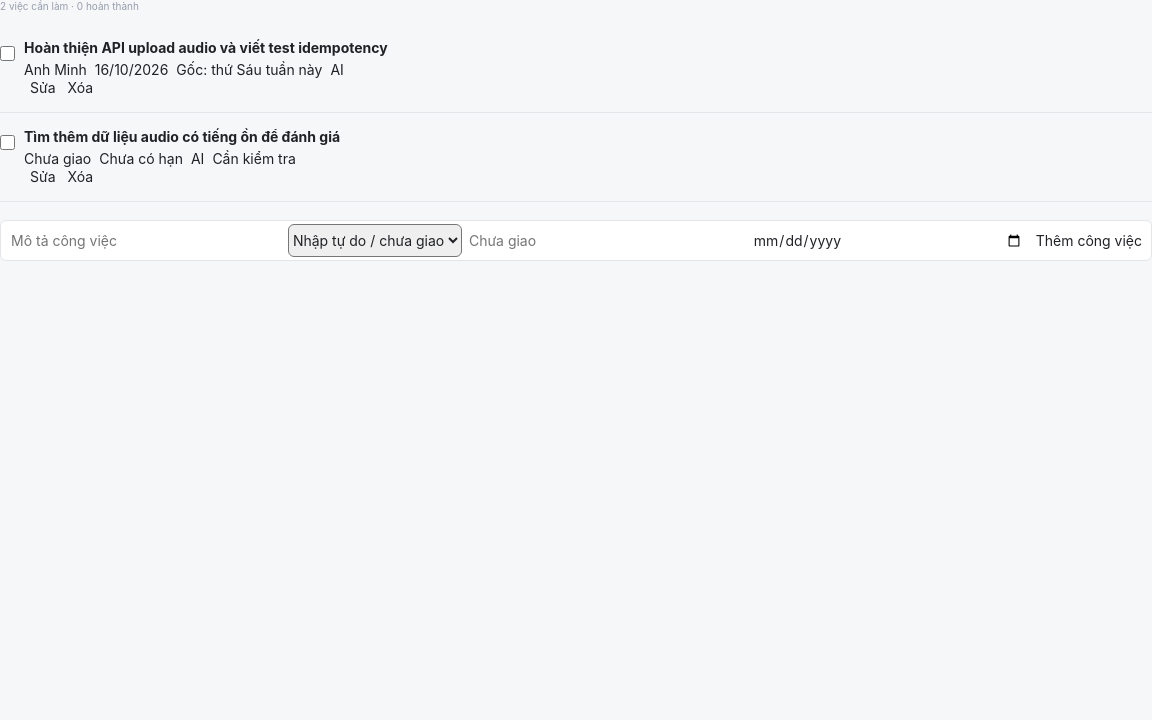
Scenario: FE-13 action item CRUD › validates description and keeps draft on 409
Expected: the text "Hoàn thiện API upload audio và viết test idempotency" is shown, [24, 39, 388, 56]
Click the button "Sửa" below "Anh Minh" at (43, 88), box [24, 78, 62, 97]
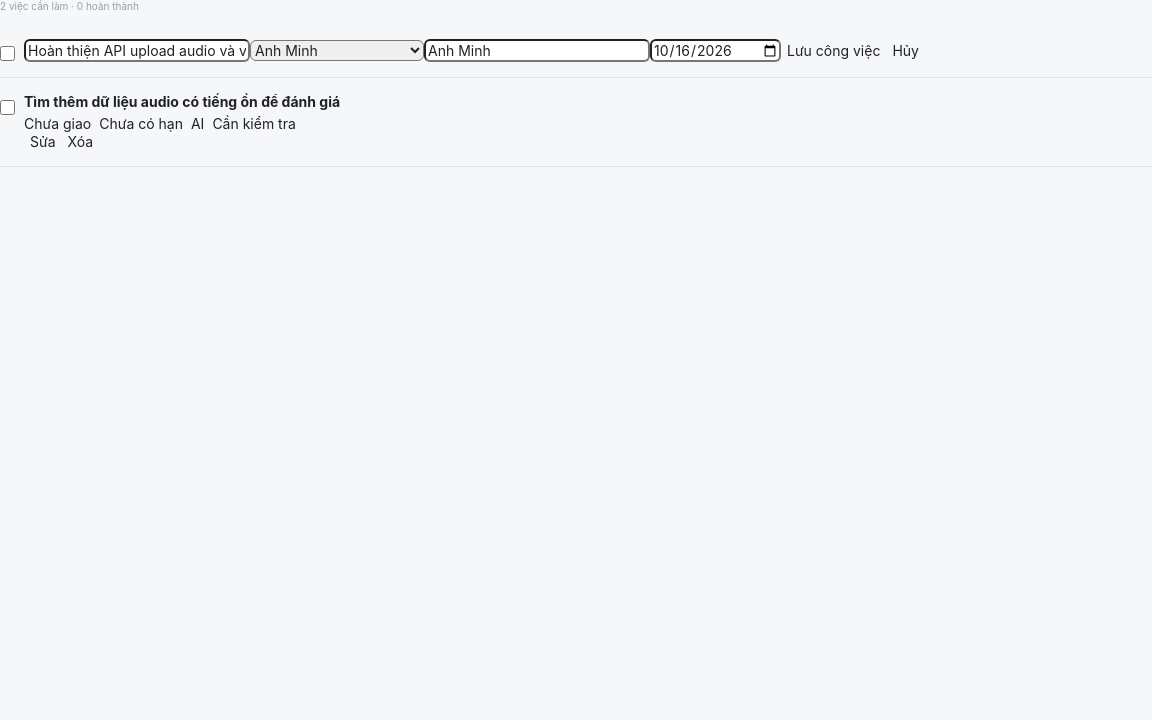
Clear the field named "Sửa nội dung" at (137, 50), box [24, 39, 250, 62]
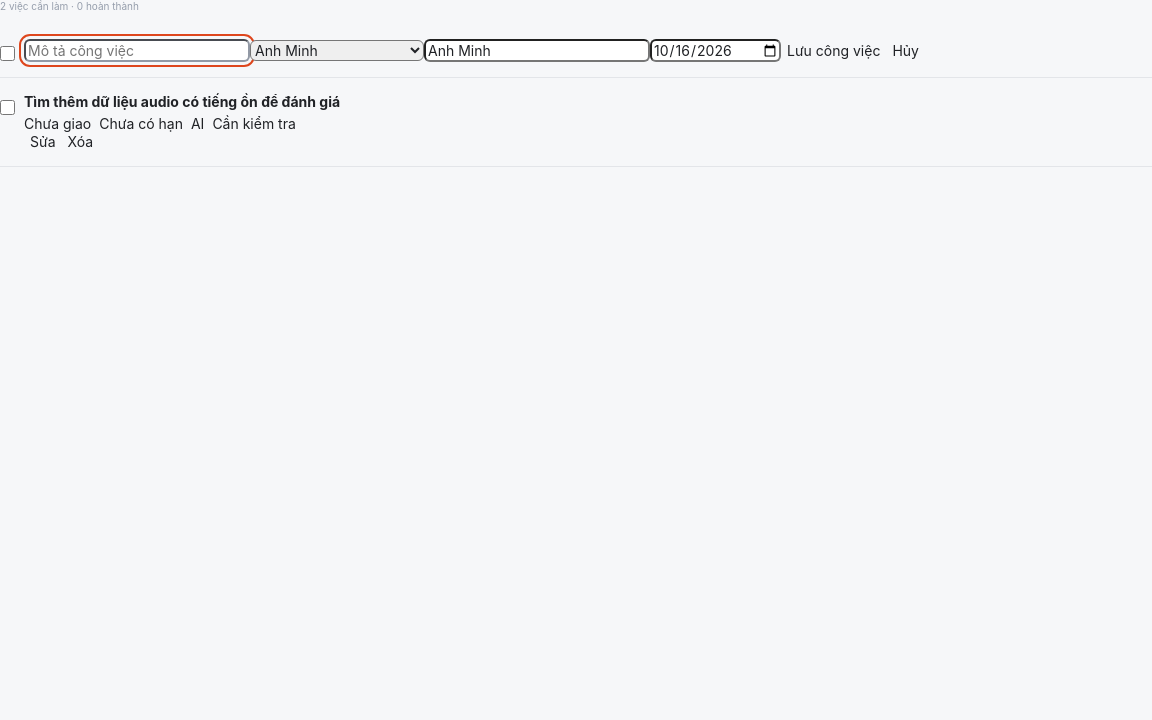
Click the button "Lưu công việc" at (834, 50), box [781, 41, 886, 60]
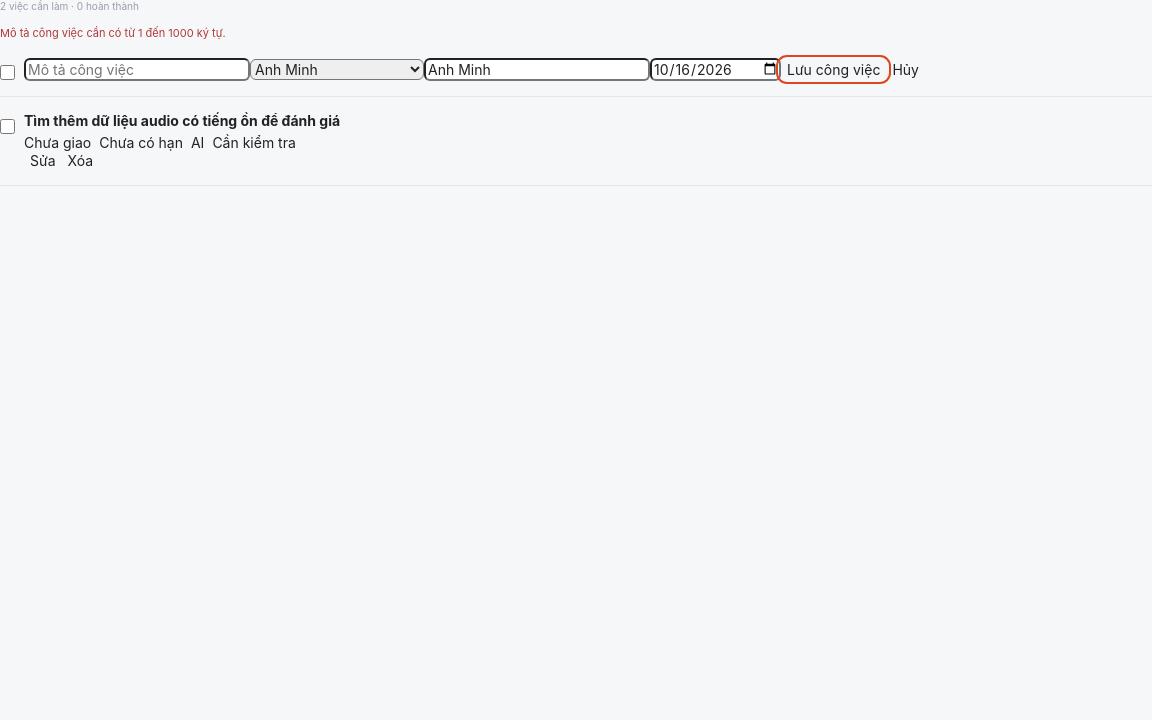
Expected: the message shows "1 đến 1000", [0, 26, 226, 40]
Type "Bản nháp cần giữ" into the field named "Sửa nội dung" at (137, 69), box [24, 58, 250, 81]
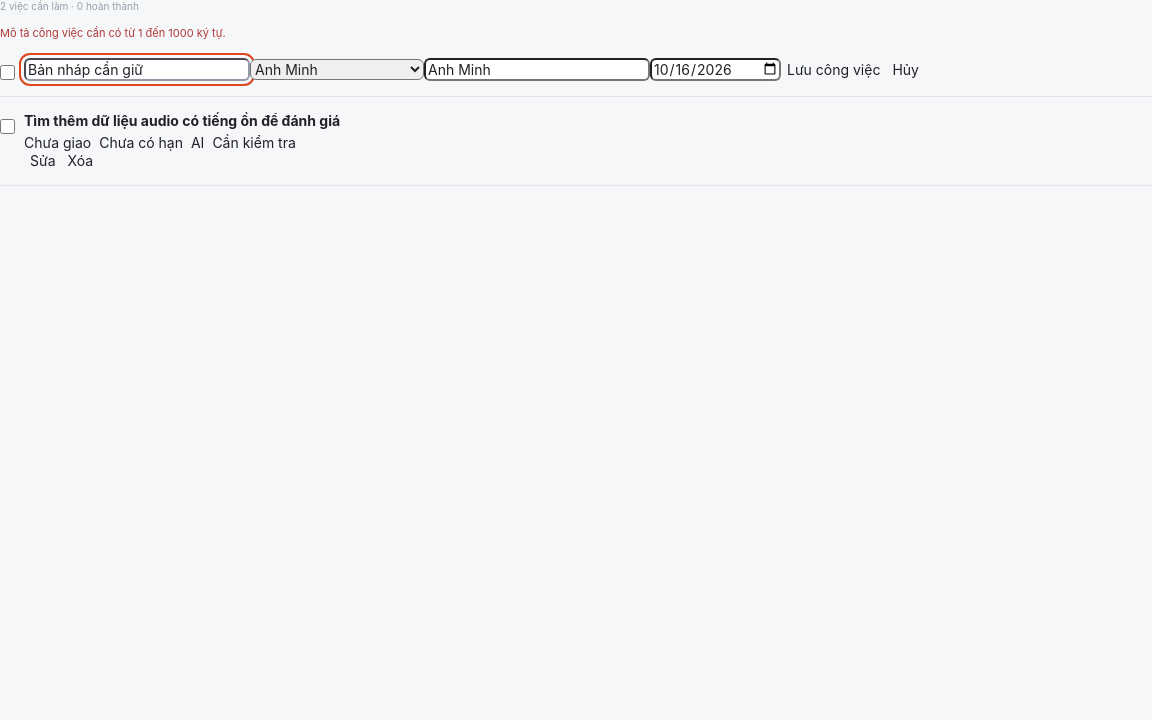
Click the button "Lưu công việc" at (834, 69), box [781, 60, 886, 79]
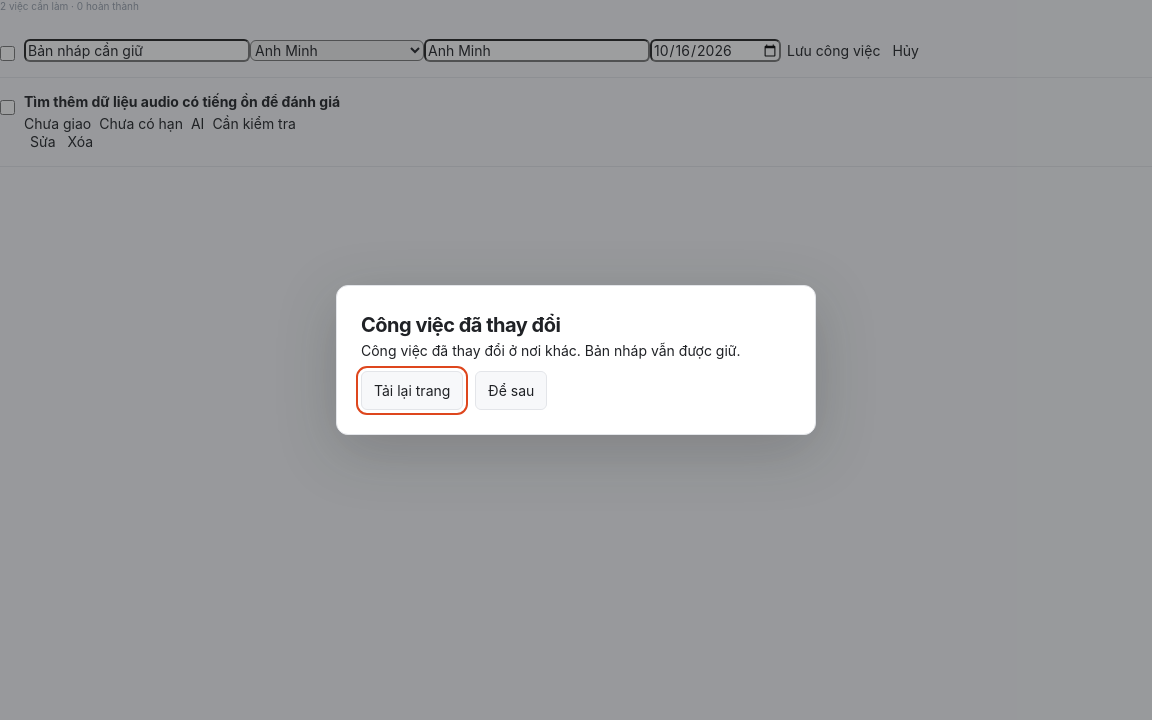
Expected: the dialog shows "thay đổi", [361, 313, 560, 337]
